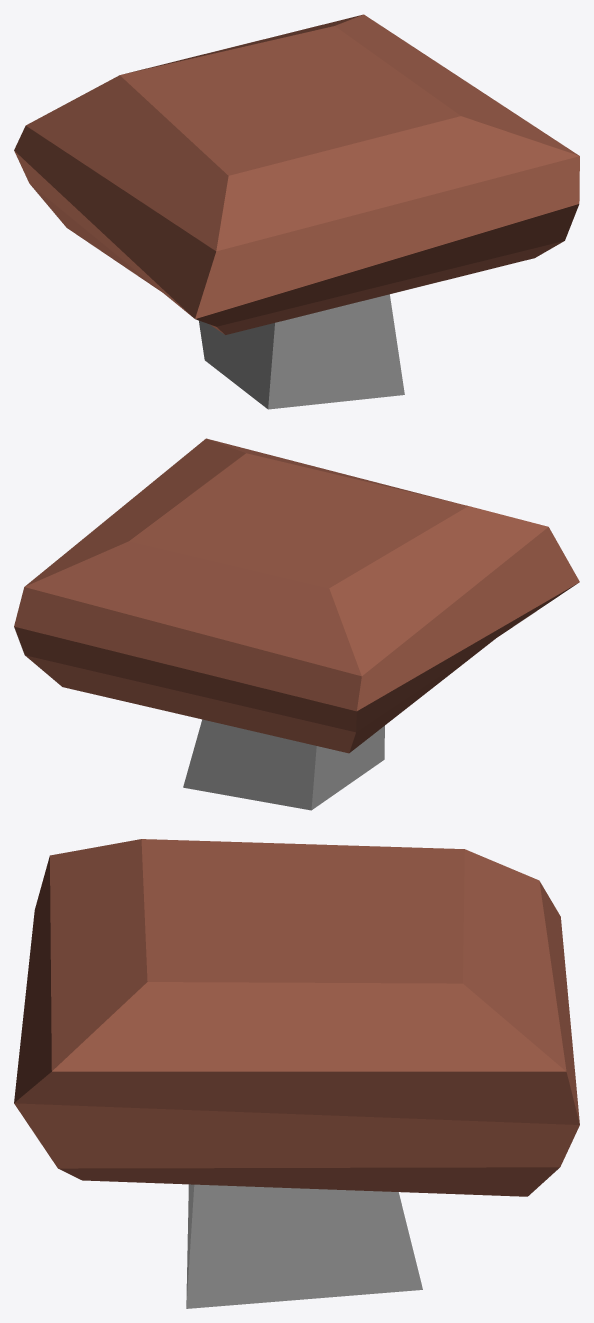
Rendered from mushroom_1.fbx.
3 views of the same model, one above another, from view 1: azimuth 30°, elevation 25°; view 2: azimuth 150°, elevation 25°; view 3: azimuth 270°, elevation 25° (orthographic). The views are drawn at different scales.
Visible parts, largest first — view 1: forest_mush_1; view 2: forest_mush_1; view 3: forest_mush_1.
Part boxes in pixels (x1,y1,x2,y2): forest_mush_1: [14, 14, 579, 409]; forest_mush_1: [14, 438, 579, 810]; forest_mush_1: [14, 839, 579, 1308].
Size of the model in its own units: 333 by 334 by 229.
